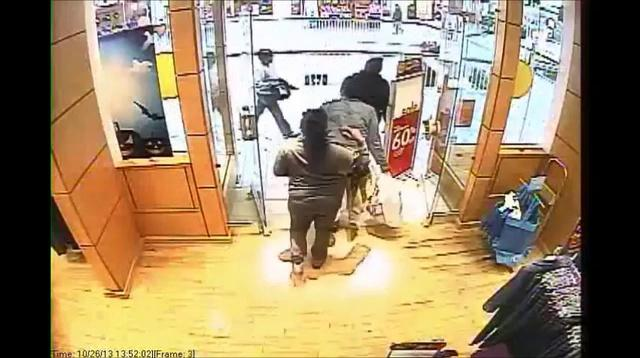Customer-Bagpack: (366, 177, 433, 230)
Regular: (238, 93, 358, 316), (249, 44, 297, 114), (323, 67, 365, 129), (351, 37, 395, 93)
